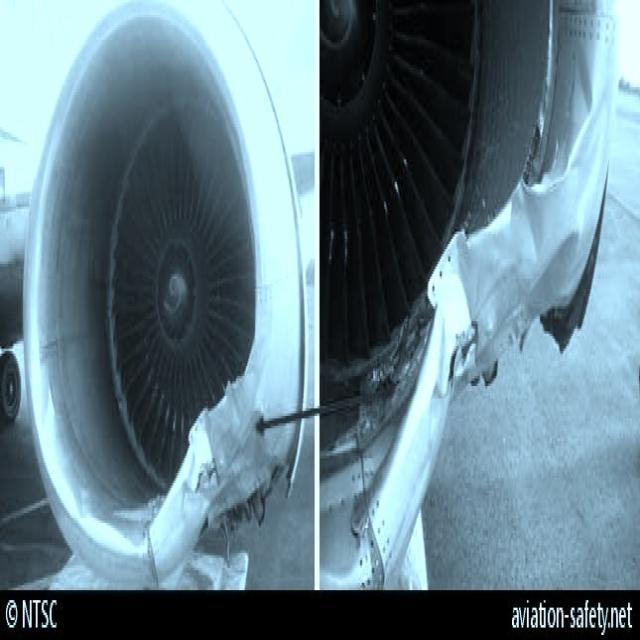dent: (554, 51, 604, 305), (426, 322, 468, 432), (513, 178, 549, 268)
